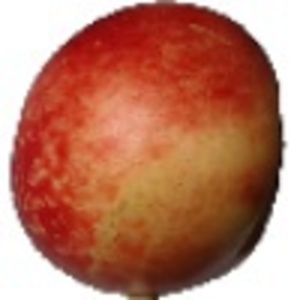nectarina: (3, 2, 287, 300)
